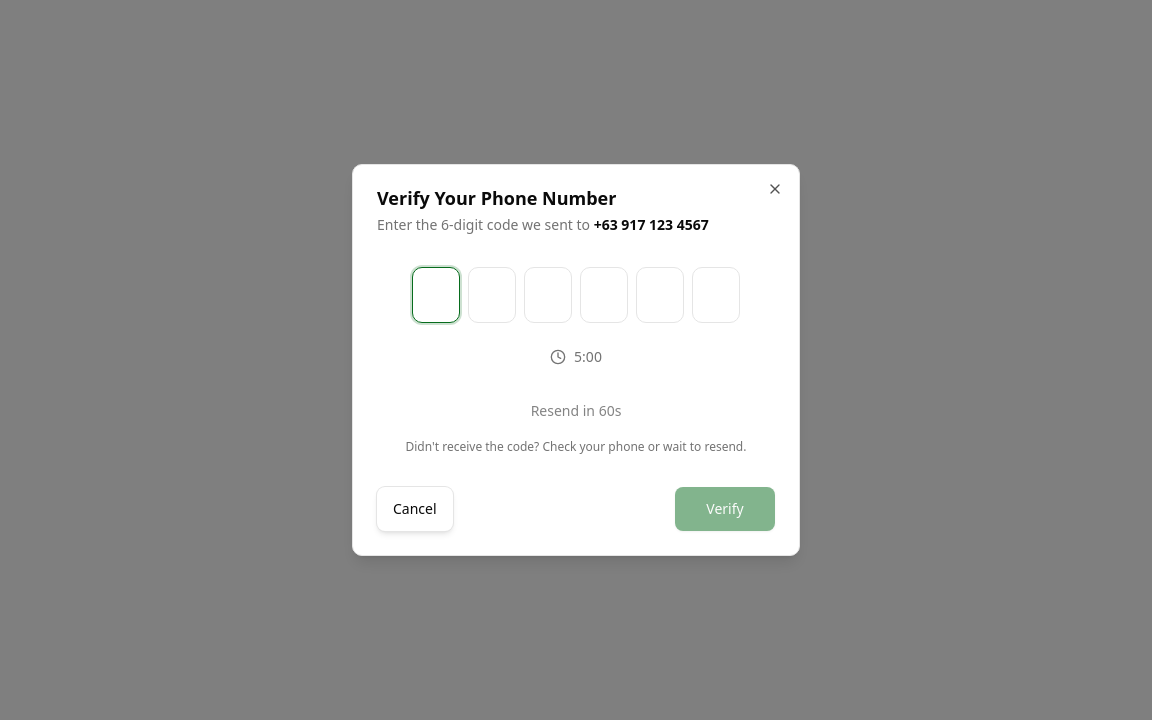
it: OTPVerificationModal › Error States › should show error on verification failure
The width and height of the screenshot is (1152, 720).
Type "1" into the field named "Digit 1 of 6" at (436, 295), box [412,267,460,323]
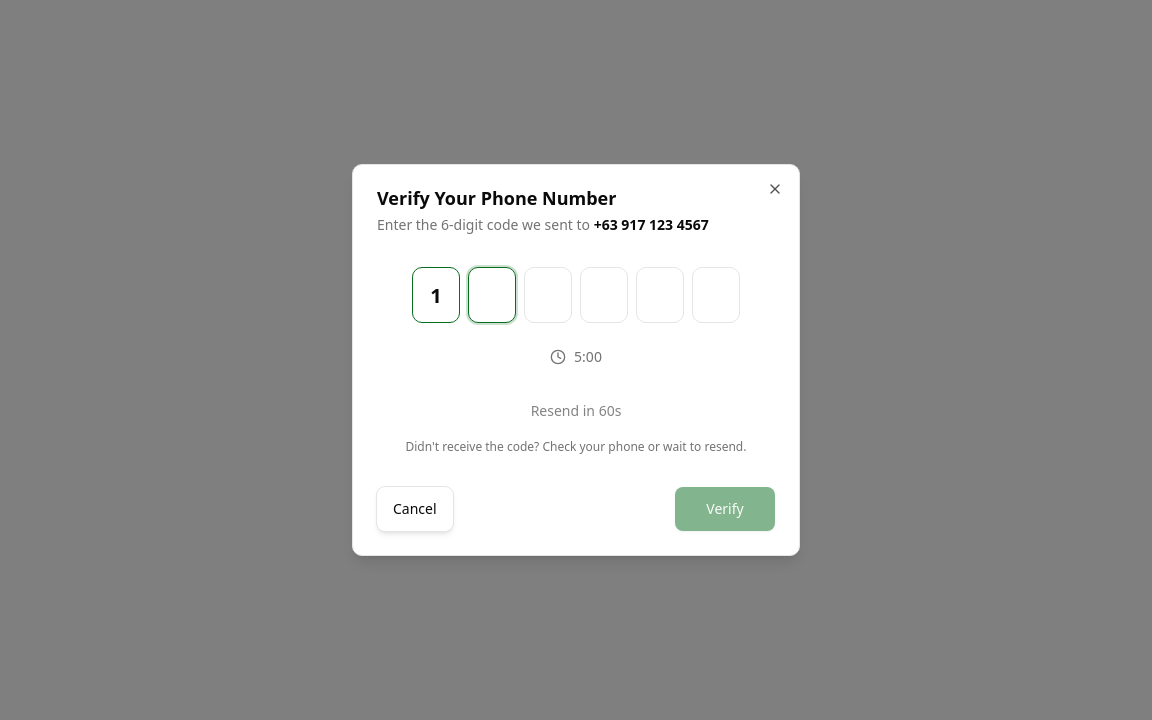
Type "2" into the field named "Digit 2 of 6" at (492, 295), box [468,267,516,323]
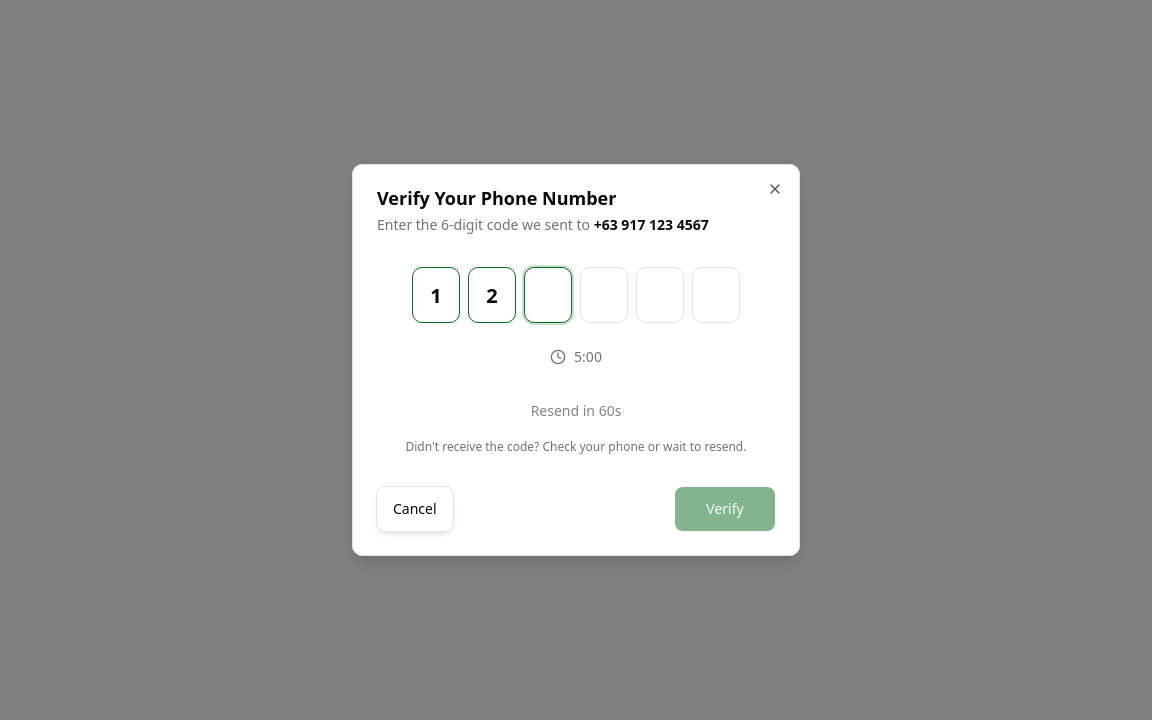
Type "3" into the field named "Digit 3 of 6" at (548, 295), box [524,267,572,323]
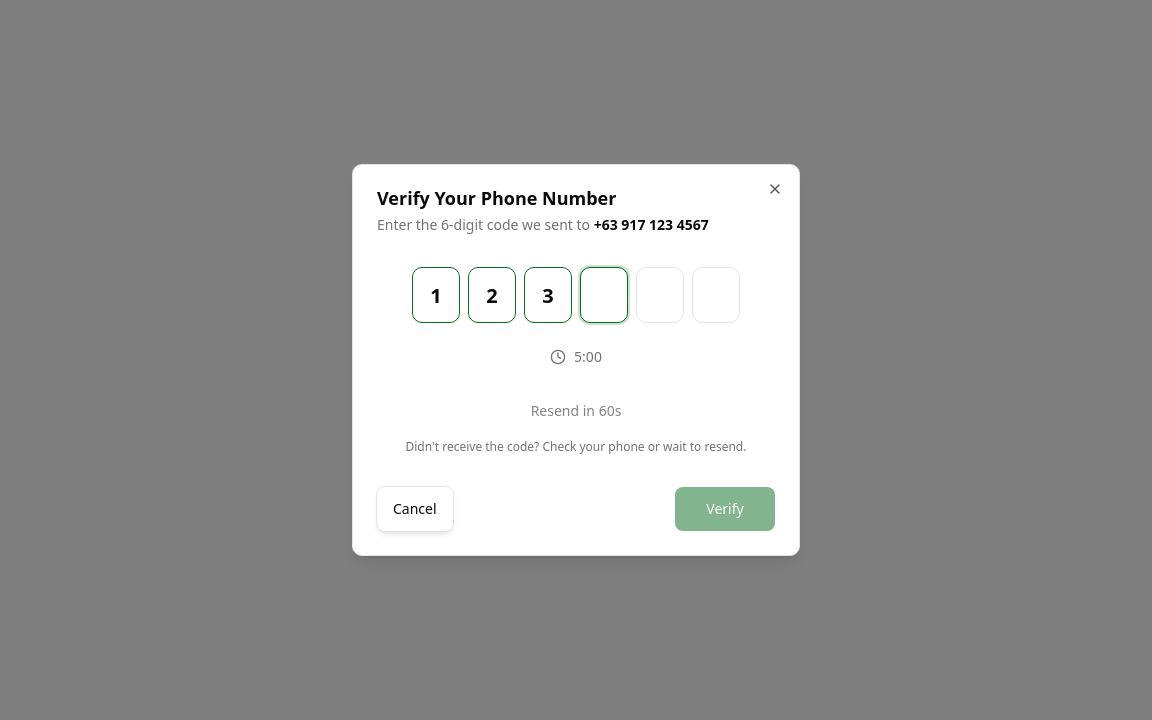
Type "4" into the field named "Digit 4 of 6" at (604, 295), box [580,267,628,323]
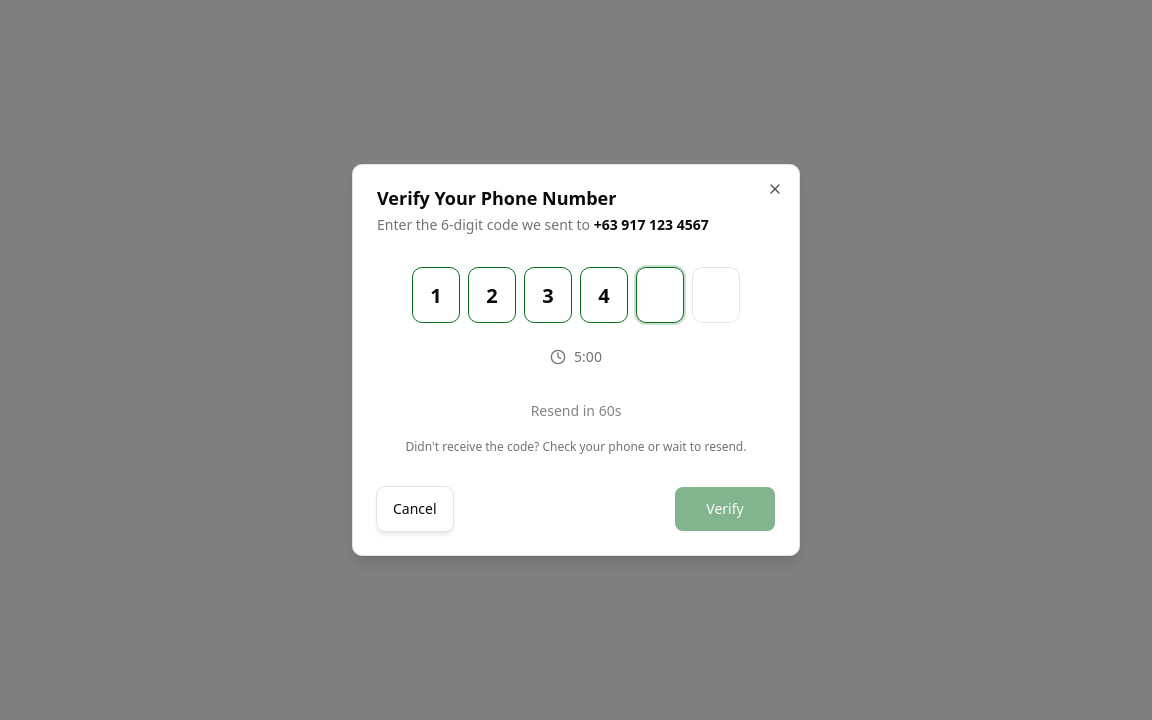
Type "5" into the field named "Digit 5 of 6" at (660, 295), box [636,267,684,323]
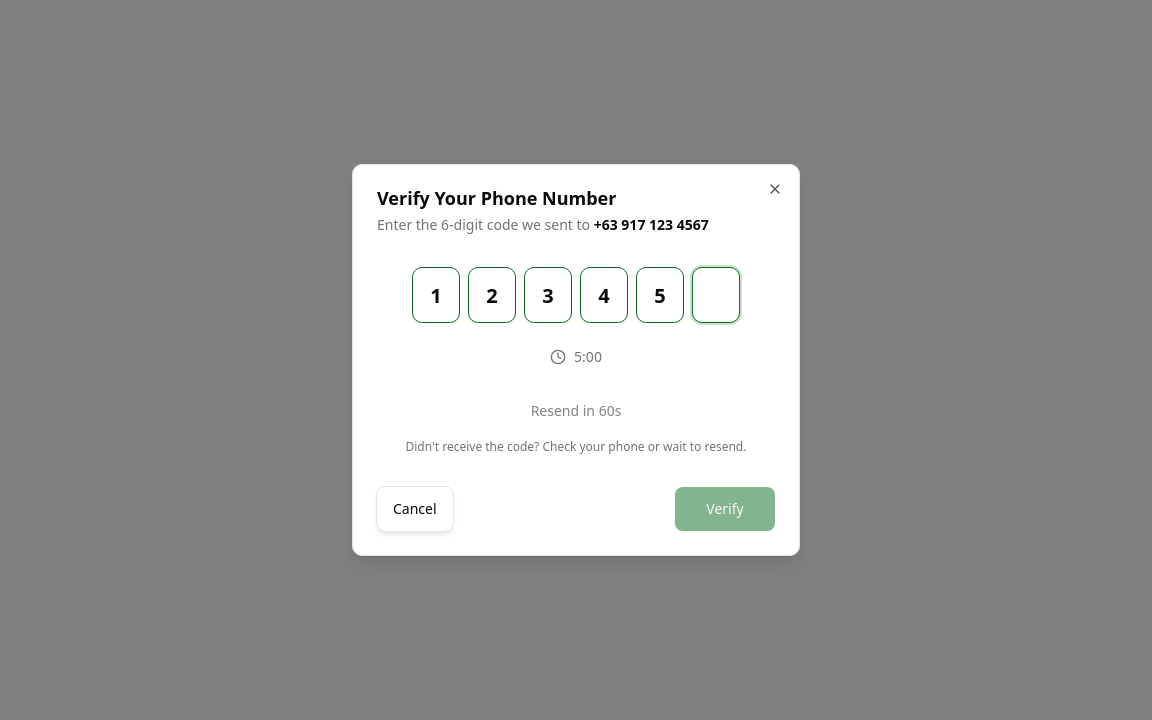
Type "6" into the field named "Digit 6 of 6" at (716, 295), box [692,267,740,323]
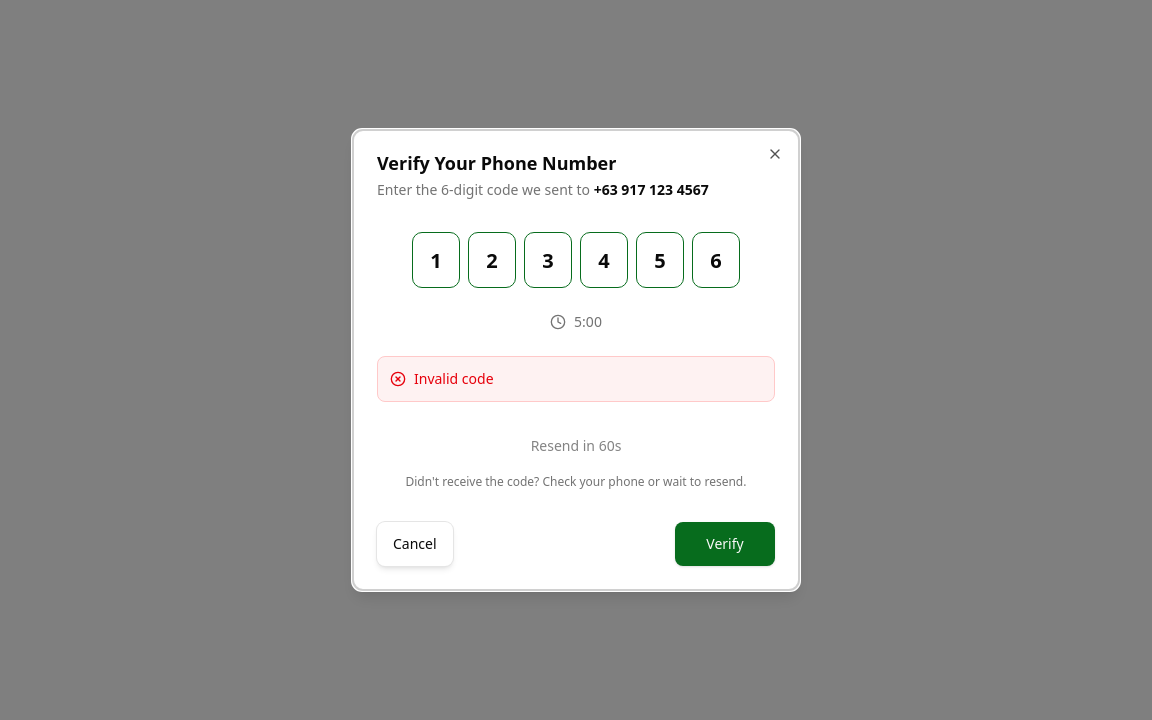
Expected: the text "Invalid code" is shown, [414,369,494,389]
